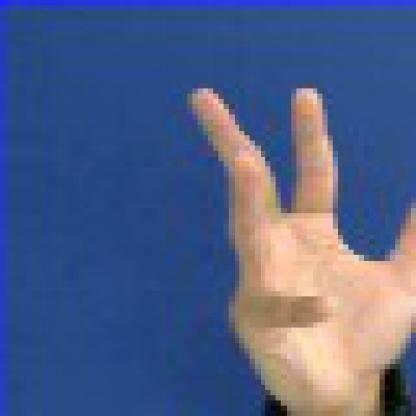nine: (151, 73, 411, 411)
